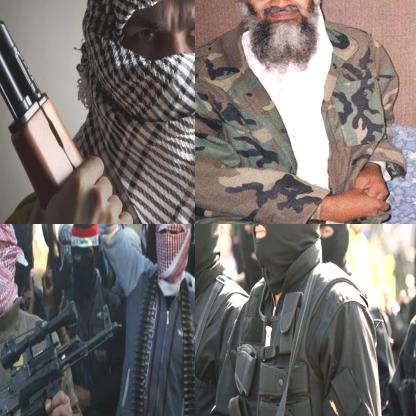rifle: (0, 0, 143, 223), (0, 299, 123, 415), (38, 224, 60, 279)
